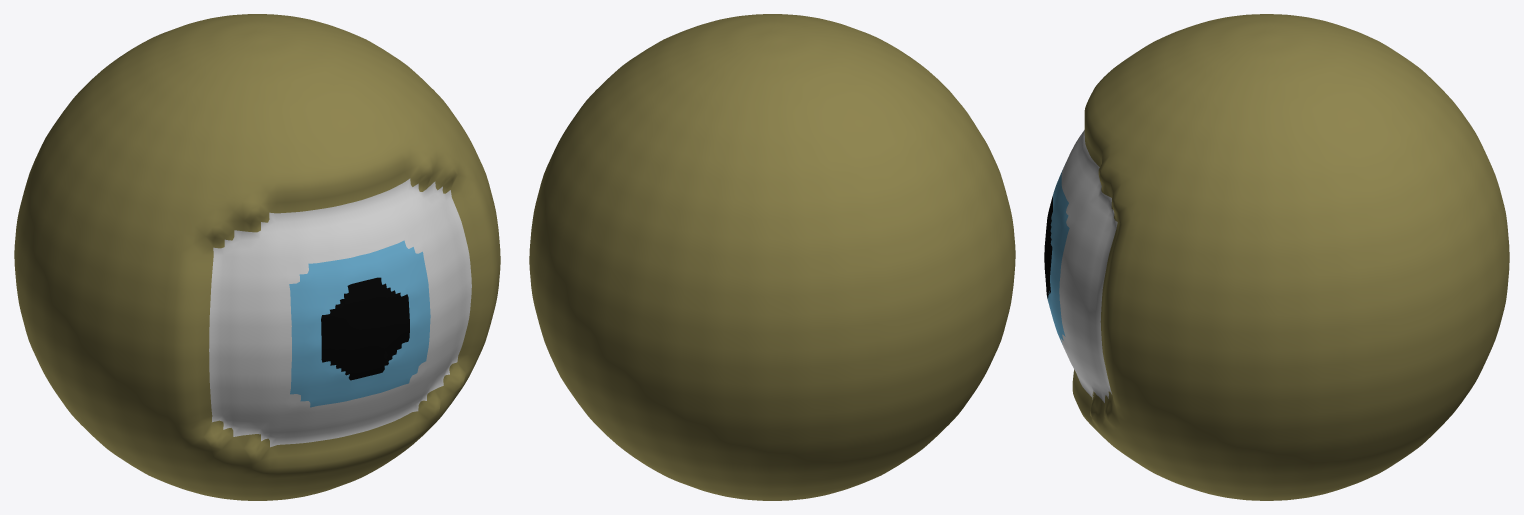
The model's file is eye.fbx.
3 renders of one model, left to right at view 1: azimuth 30°, elevation 25°; view 2: azimuth 150°, elevation 25°; view 3: azimuth 270°, elevation 25°, orthographic.
Visible parts, largest first — view 1: Eye; view 2: Eye; view 3: Eye.
Part boxes in pixels (bbox=[...]): Eye: bbox=[14, 14, 500, 500]; Eye: bbox=[529, 14, 1015, 500]; Eye: bbox=[1044, 14, 1509, 500].
Size of the model in its own units: 1.99 by 2 by 1.91.
